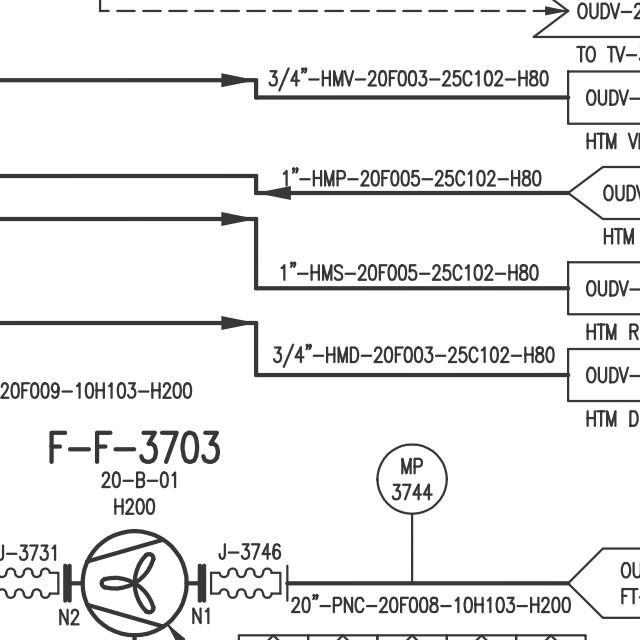EJ: (200, 557, 290, 609), (0, 563, 66, 605)
F: (80, 527, 189, 633)
